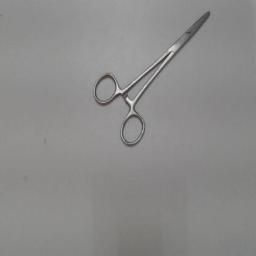Mayo Needle Holder: (90, 3, 218, 155)
